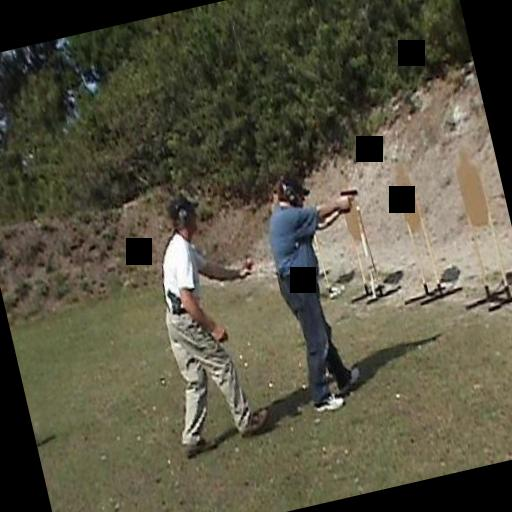Handgun: (334, 186, 360, 212)
